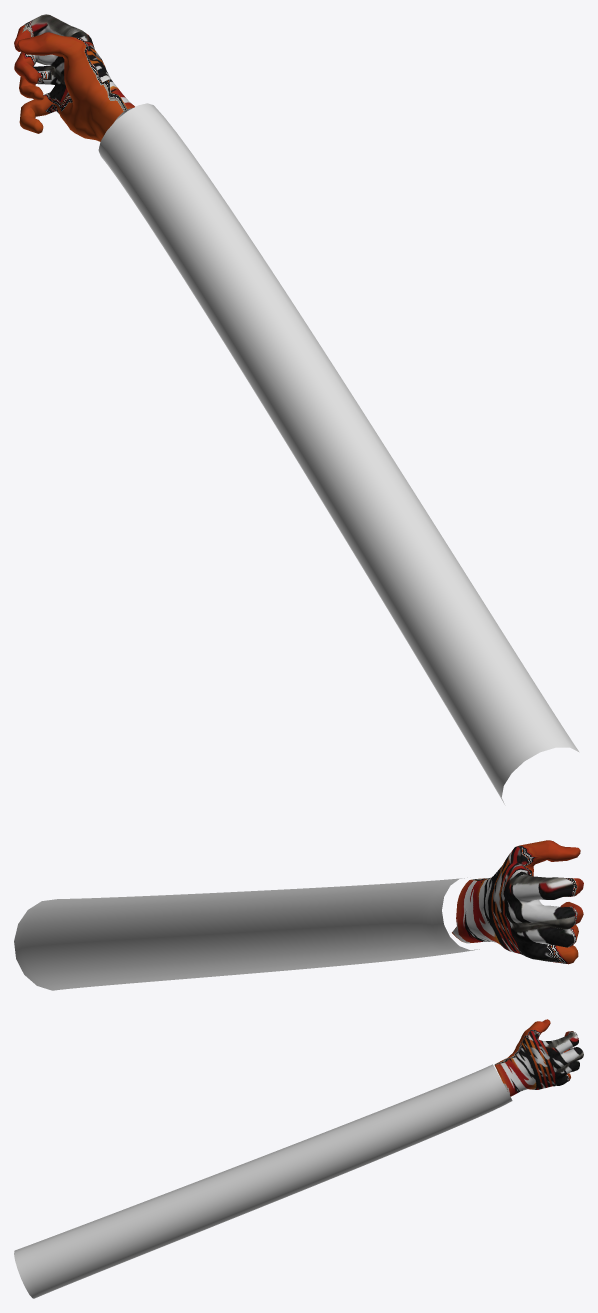
File: fpa_g22.glb
The picture shows the model from 3 angles, top to bottom: view 1: azimuth 30°, elevation 25°; view 2: azimuth 210°, elevation 25°; view 3: azimuth 270°, elevation 25°; orthographic projection. The views are drawn at different scales.
Parts seen in each view (by area): view 1: arms, hands; view 2: arms, hands; view 3: arms, hands.
Boxes of the visible parts, bbox=[...] form: arms: bbox=[98, 103, 579, 805]; hands: bbox=[14, 14, 134, 141]; arms: bbox=[14, 877, 479, 990]; hands: bbox=[452, 840, 583, 964]; arms: bbox=[14, 1064, 512, 1298]; hands: bbox=[494, 1019, 583, 1096].
Bounding box in the file's own units: 0.1401 × 0.5546 × 1.09.
Materials: 1 (1 with a texture image).
